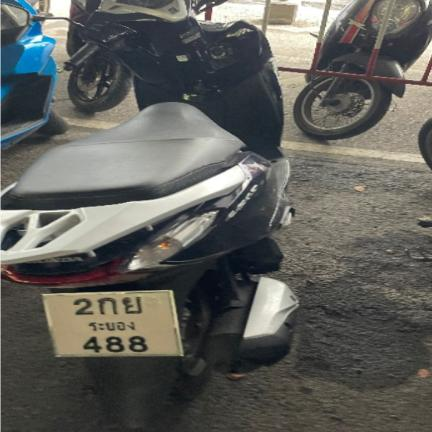2: (68, 297, 95, 315)
4: (77, 335, 103, 353)
8: (127, 335, 149, 352), (105, 335, 125, 353)
A01: (97, 297, 119, 315)
A34: (121, 296, 144, 314)
RYG: (87, 320, 139, 333)
